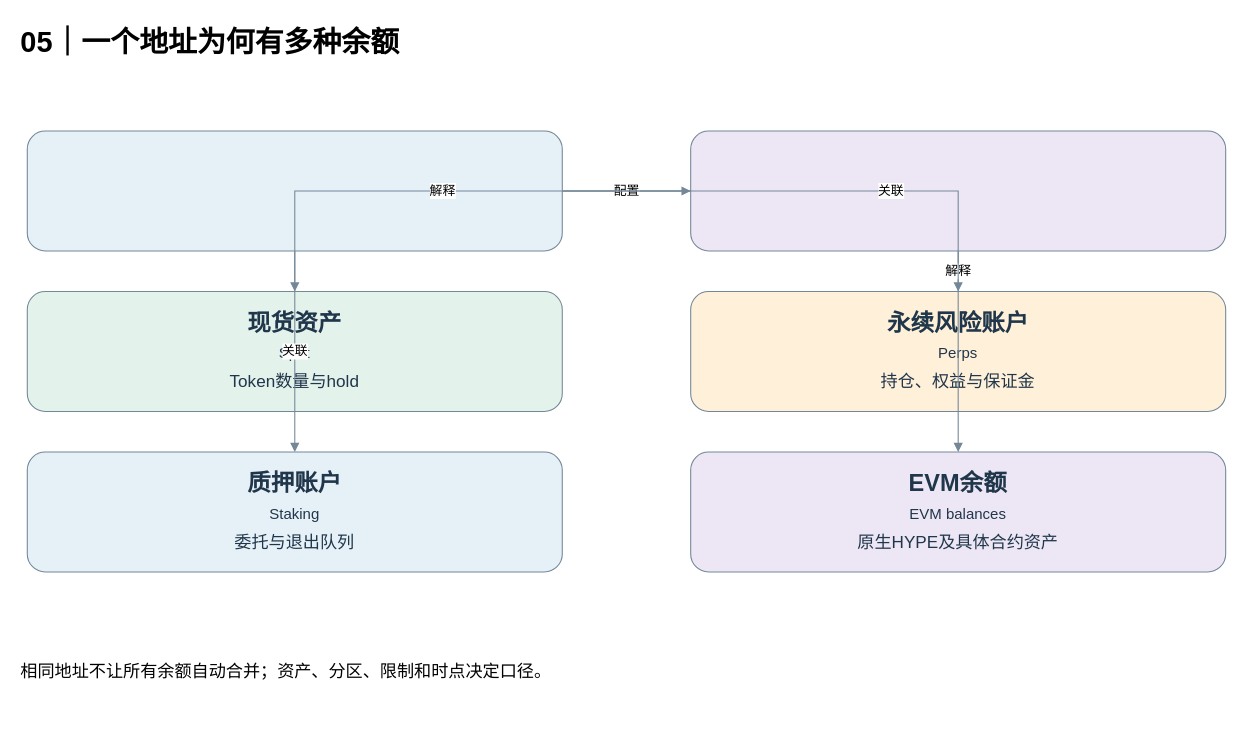
Some shapes in this 1252 by 738 pixel diagram are drawn without their labels. The box of each missing label's shape, as (x1, y1, x2, y2) in pixels:
Core用户身份 Core user 地址作为业务索引: (26, 130, 562, 251)
账户模式 Abstraction mode 先确认共享范围: (690, 130, 1226, 251)
